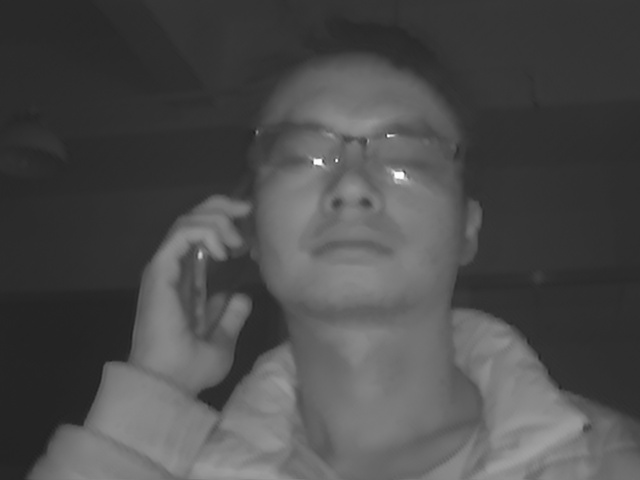hand: (125, 191, 261, 395)
